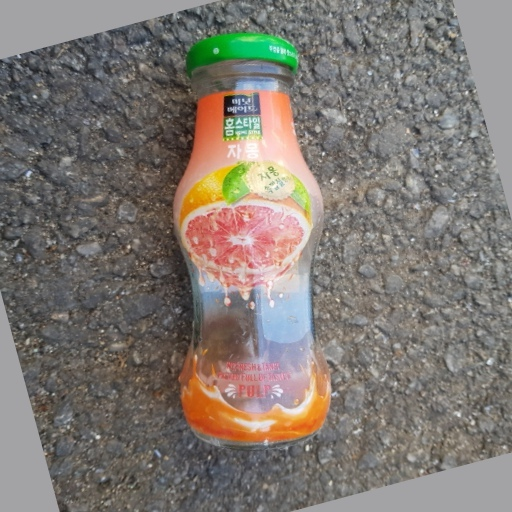Glass_4: (163, 31, 334, 448)
